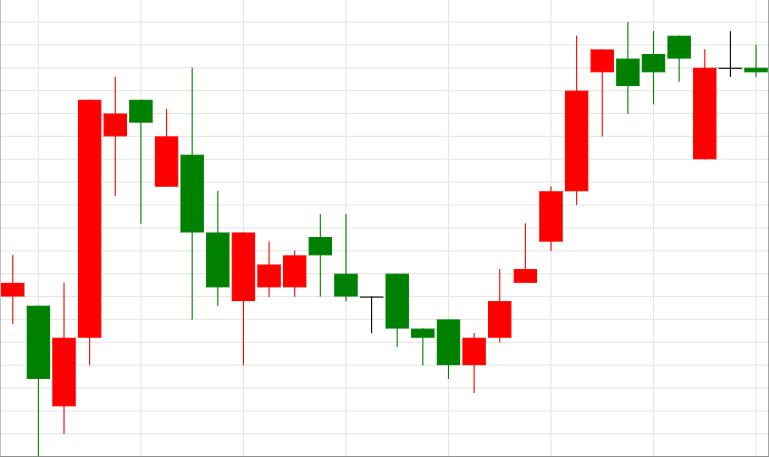hanging_man_fall: (462, 35, 614, 394)
